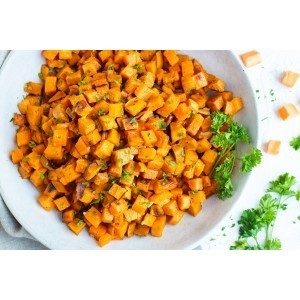sweet potato_brain food: (18, 62, 226, 244)
